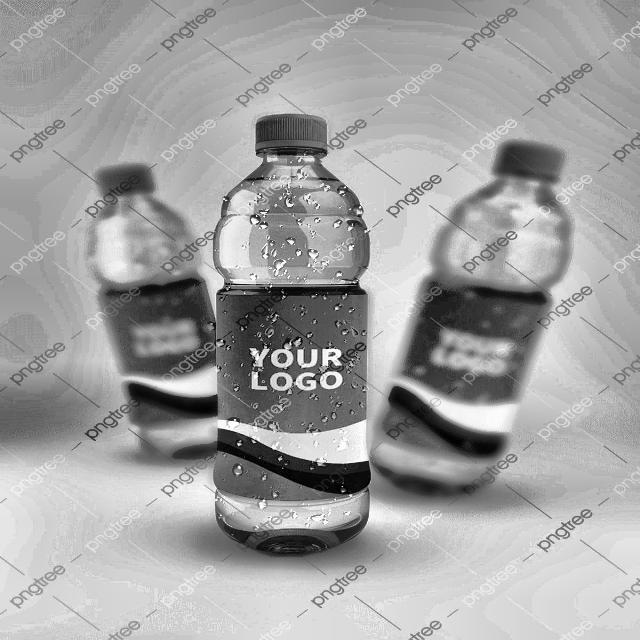waterbottle: (361, 130, 583, 512), (204, 102, 382, 566), (70, 155, 264, 471)
